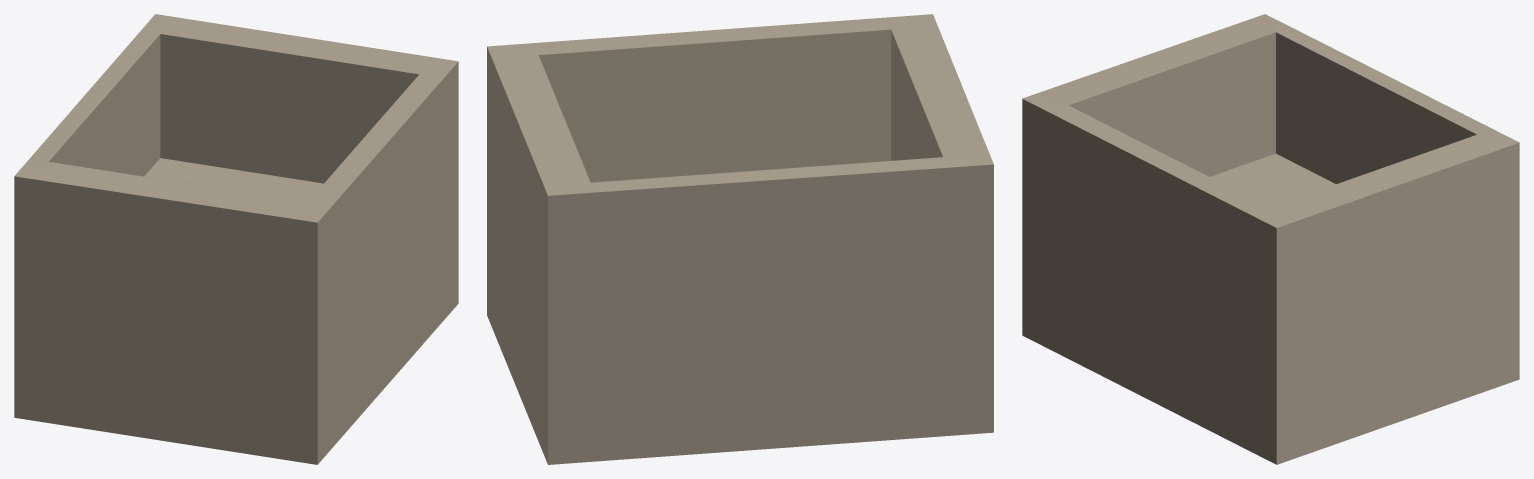
Rendered from MSH_QuestObject_table_01.fbx.
The picture shows the model from 3 angles, left to right: view 1: azimuth 30°, elevation 25°; view 2: azimuth 150°, elevation 25°; view 3: azimuth 270°, elevation 25°; orthographic projection. The views are drawn at different scales.
Visible parts, largest first — view 1: MSH_QuestObject_table_01; view 2: MSH_QuestObject_table_01; view 3: MSH_QuestObject_table_01.
Part boxes in pixels (<box>): MSH_QuestObject_table_01: <box>14,14,458,464</box>; MSH_QuestObject_table_01: <box>487,14,993,464</box>; MSH_QuestObject_table_01: <box>1022,14,1519,464</box>.
Bounding box in the file's own units: 0.7573 × 0.3893 × 0.7408.
